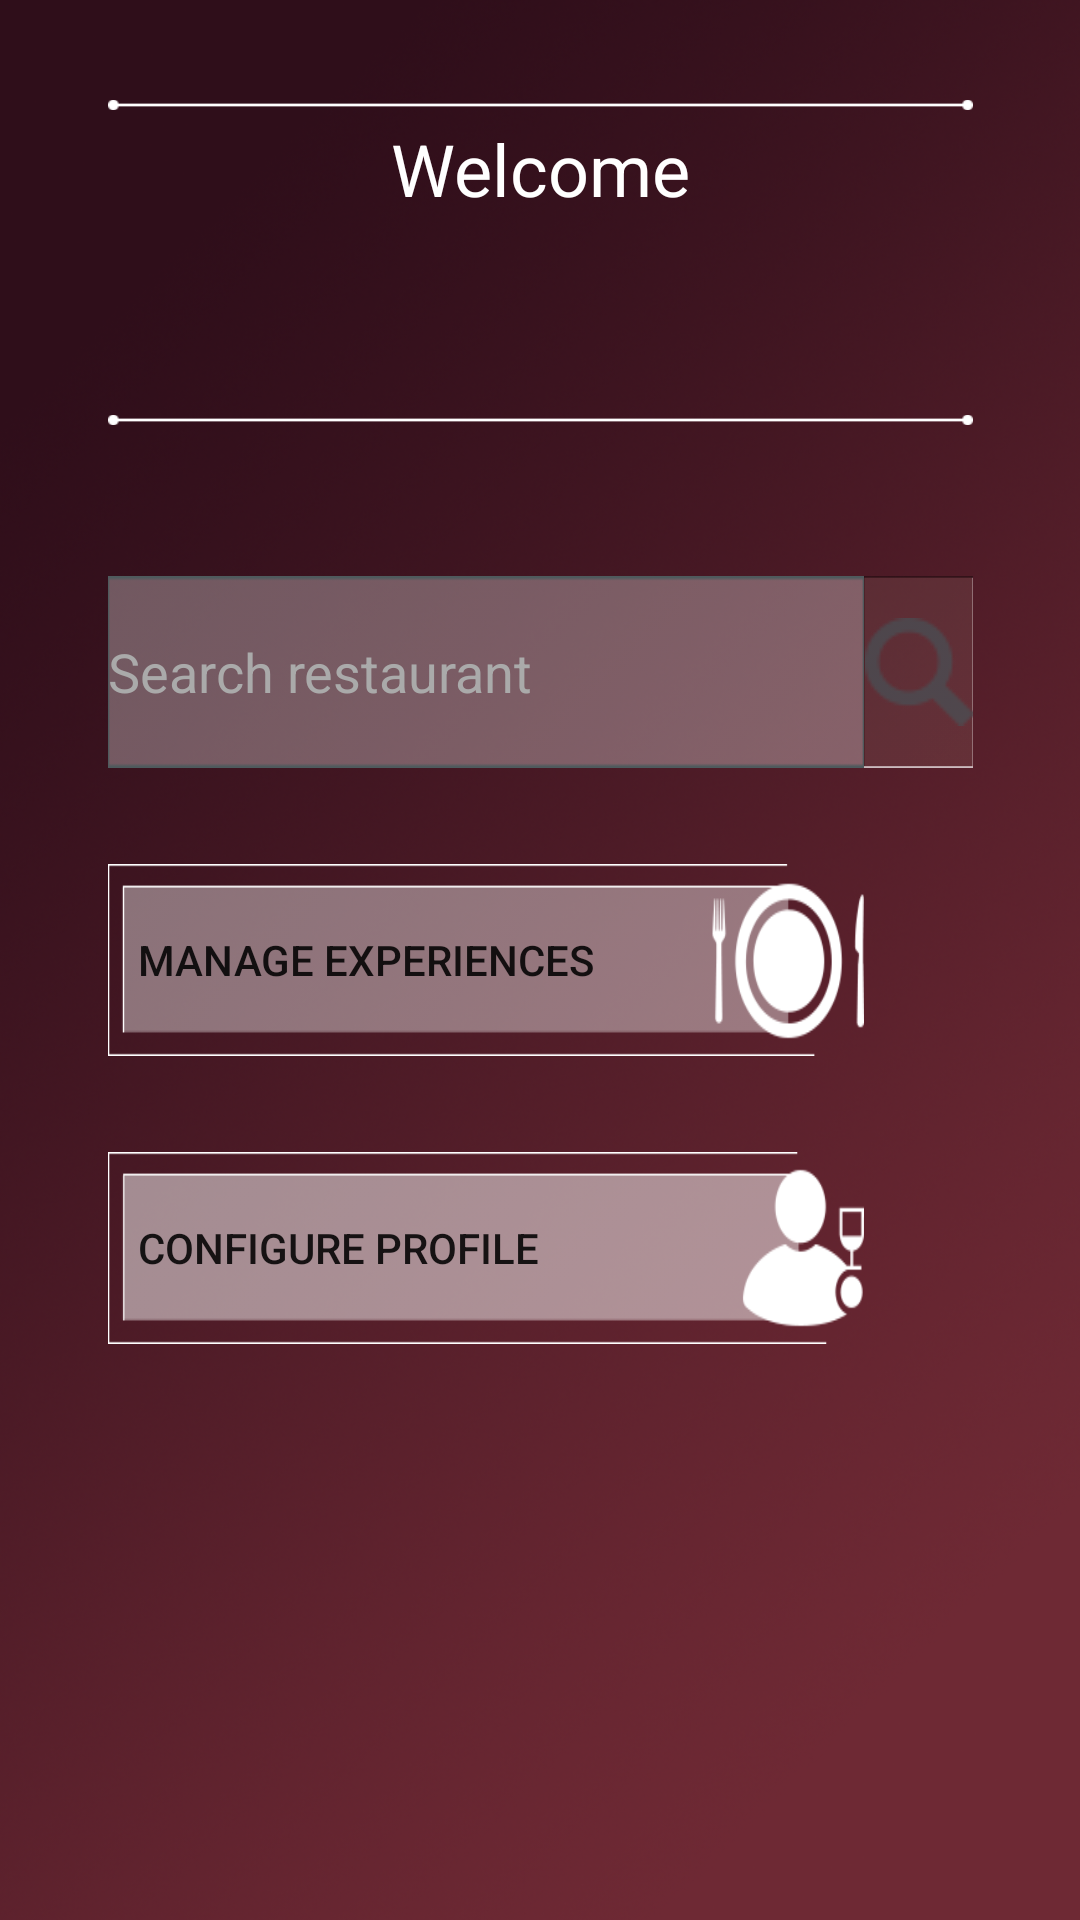

Locate icon controls on the screen. Image size 1080 × 1920, boxes as (x1, y1, x2, y2).
buscar: (864, 576, 973, 768)
